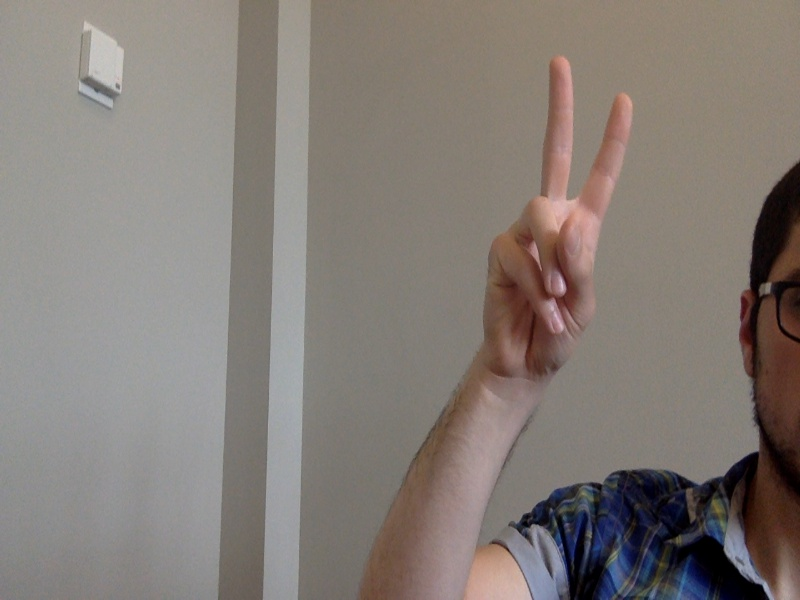2-hand: (484, 53, 635, 381)
